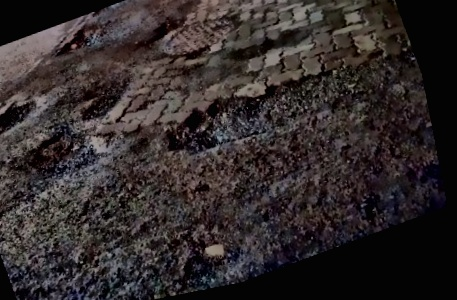pothole: (151, 48, 364, 169), (18, 113, 122, 187), (46, 15, 114, 62), (0, 96, 45, 143), (77, 88, 126, 123)
